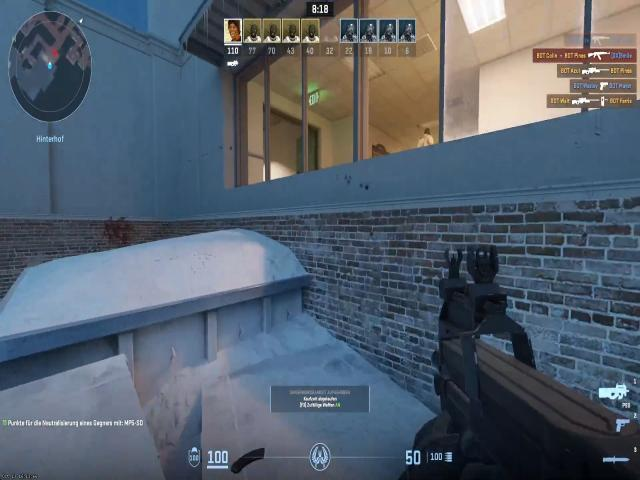T: (417, 123, 436, 147)
T-Head: (422, 125, 434, 138)
